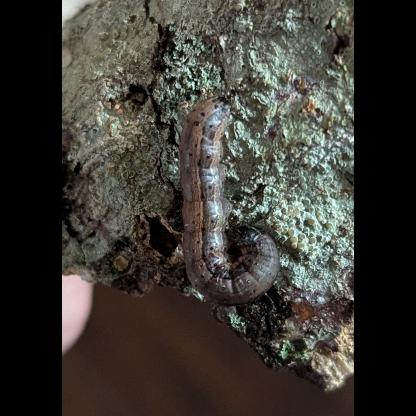Fall Armyworm Larvae: (176, 92, 284, 310)
